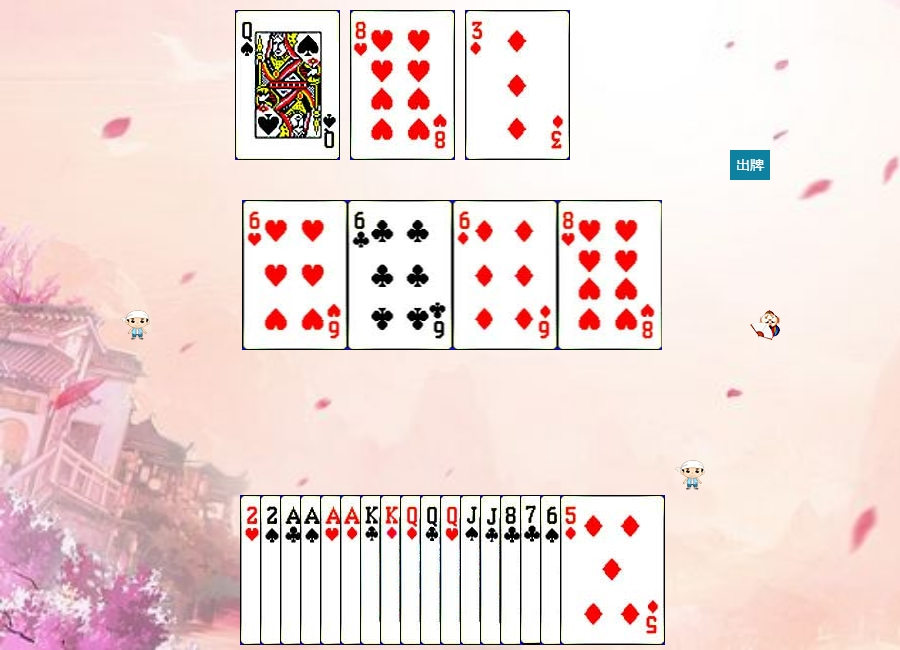11~2: (480, 495, 585, 645)
11~4: (460, 495, 565, 645)
12~1: (400, 495, 505, 645)
12~2: (420, 495, 525, 645)
12~3: (440, 495, 545, 645)
12~4: (235, 10, 340, 160)
13~1: (380, 495, 485, 645)
13~2: (360, 495, 465, 645)
14~1: (340, 495, 445, 645)
14~2: (280, 495, 385, 645)
14~3: (320, 495, 425, 645)
14~4: (300, 495, 405, 645)
15~3: (240, 495, 345, 645)
15~4: (260, 495, 365, 645)
3~1: (465, 10, 570, 160)
5~1: (560, 495, 665, 645)
6~1: (453, 200, 558, 350)
6~2: (348, 200, 453, 350)
6~3: (243, 200, 348, 350)
6~4: (540, 495, 645, 645)
7~2: (520, 495, 625, 645)
8~2: (500, 495, 605, 645)
8~3: (350, 10, 455, 160), (558, 200, 663, 350)
